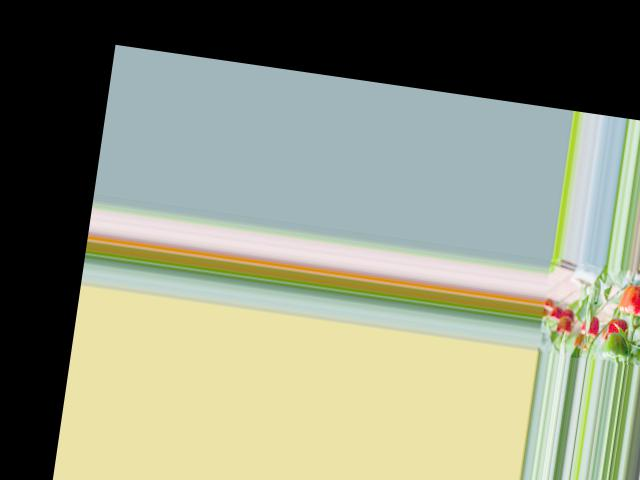bell_pepper: (577, 309, 601, 343)
